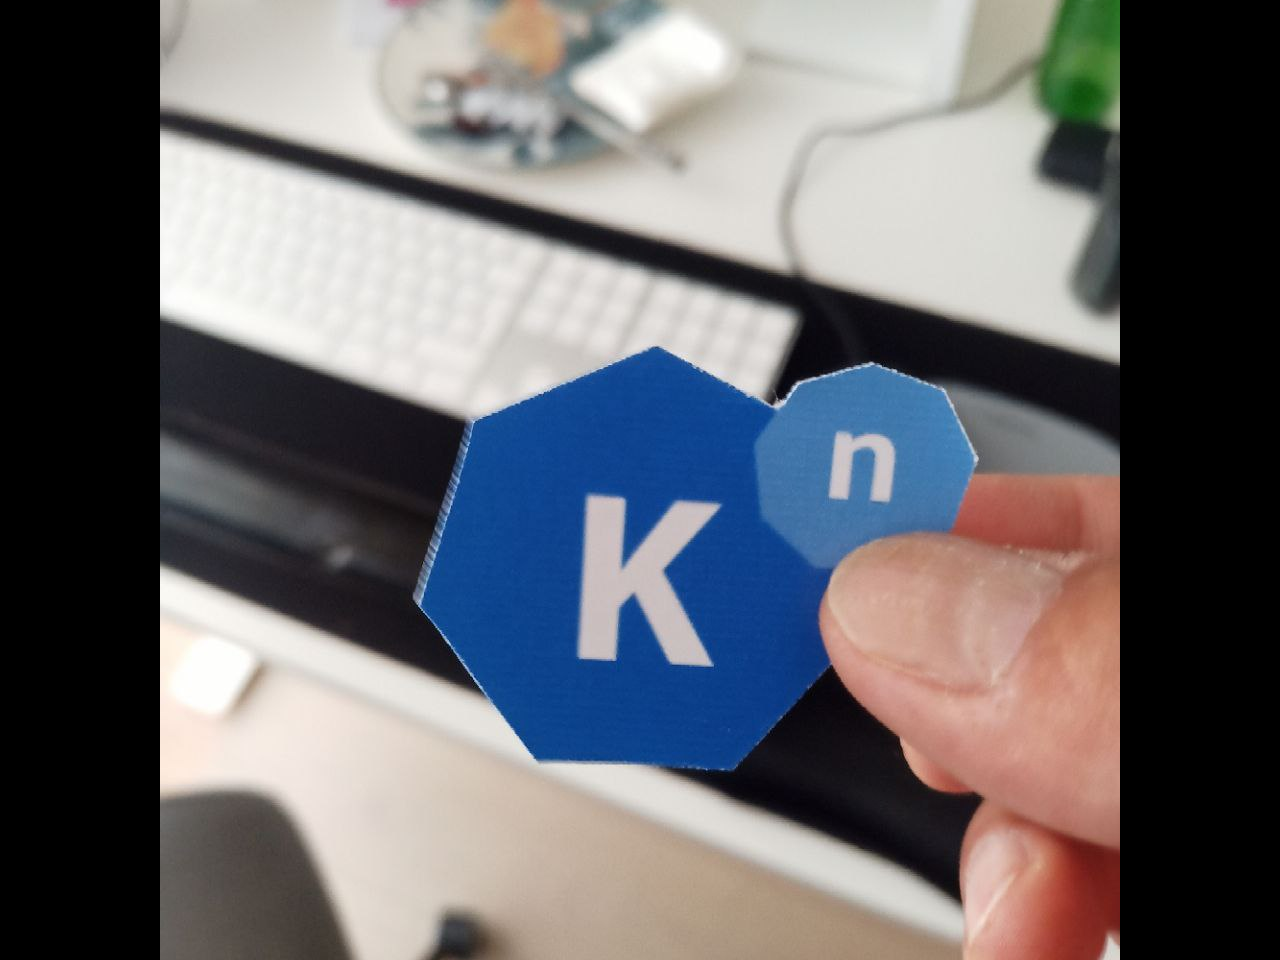knative: (409, 343, 981, 767)
